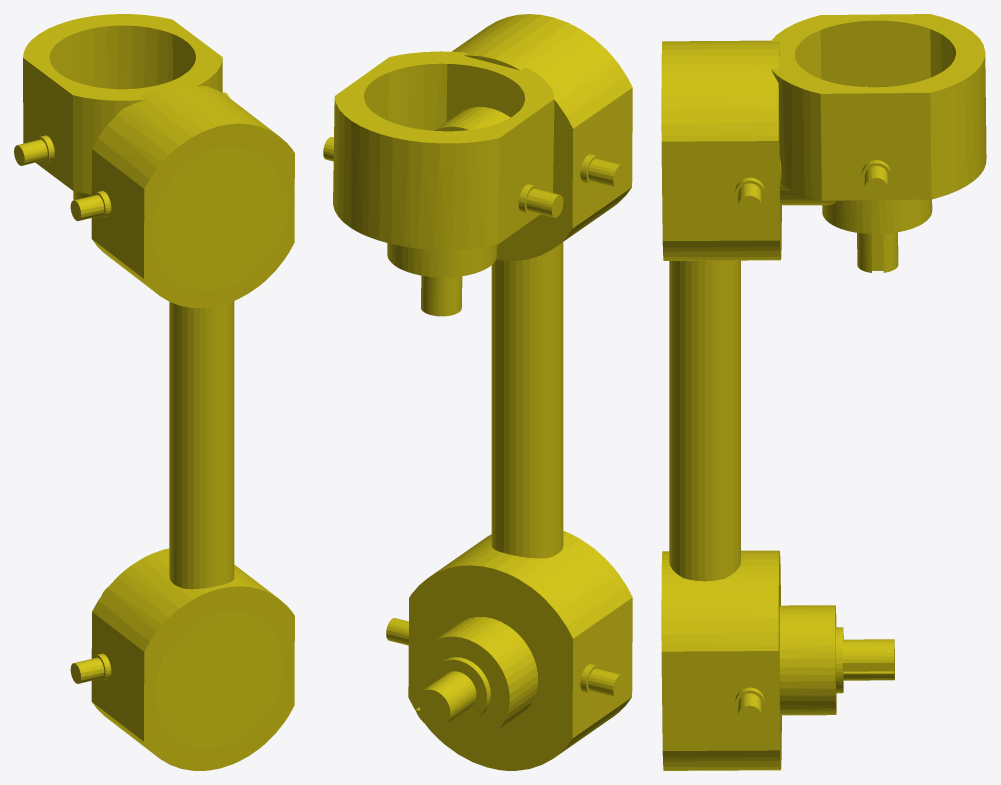
File: wheel_steered.dae
3 renders of one model, left to right at view 1: azimuth 30°, elevation 25°; view 2: azimuth 150°, elevation 25°; view 3: azimuth 270°, elevation 25°, orthographic. The views are drawn at different scales.
Visible parts, largest first — view 1: Wheel_Steered_0012_003; view 2: Wheel_Steered_0012_003; view 3: Wheel_Steered_0012_003.
Boxes of the visible parts, x1,y1,x2,y2 form: Wheel_Steered_0012_003: (14,14,294,770); Wheel_Steered_0012_003: (323,14,632,770); Wheel_Steered_0012_003: (661,14,986,770).
Size of the model in its own units: 0.1804 by 0.2217 by 0.5346.
